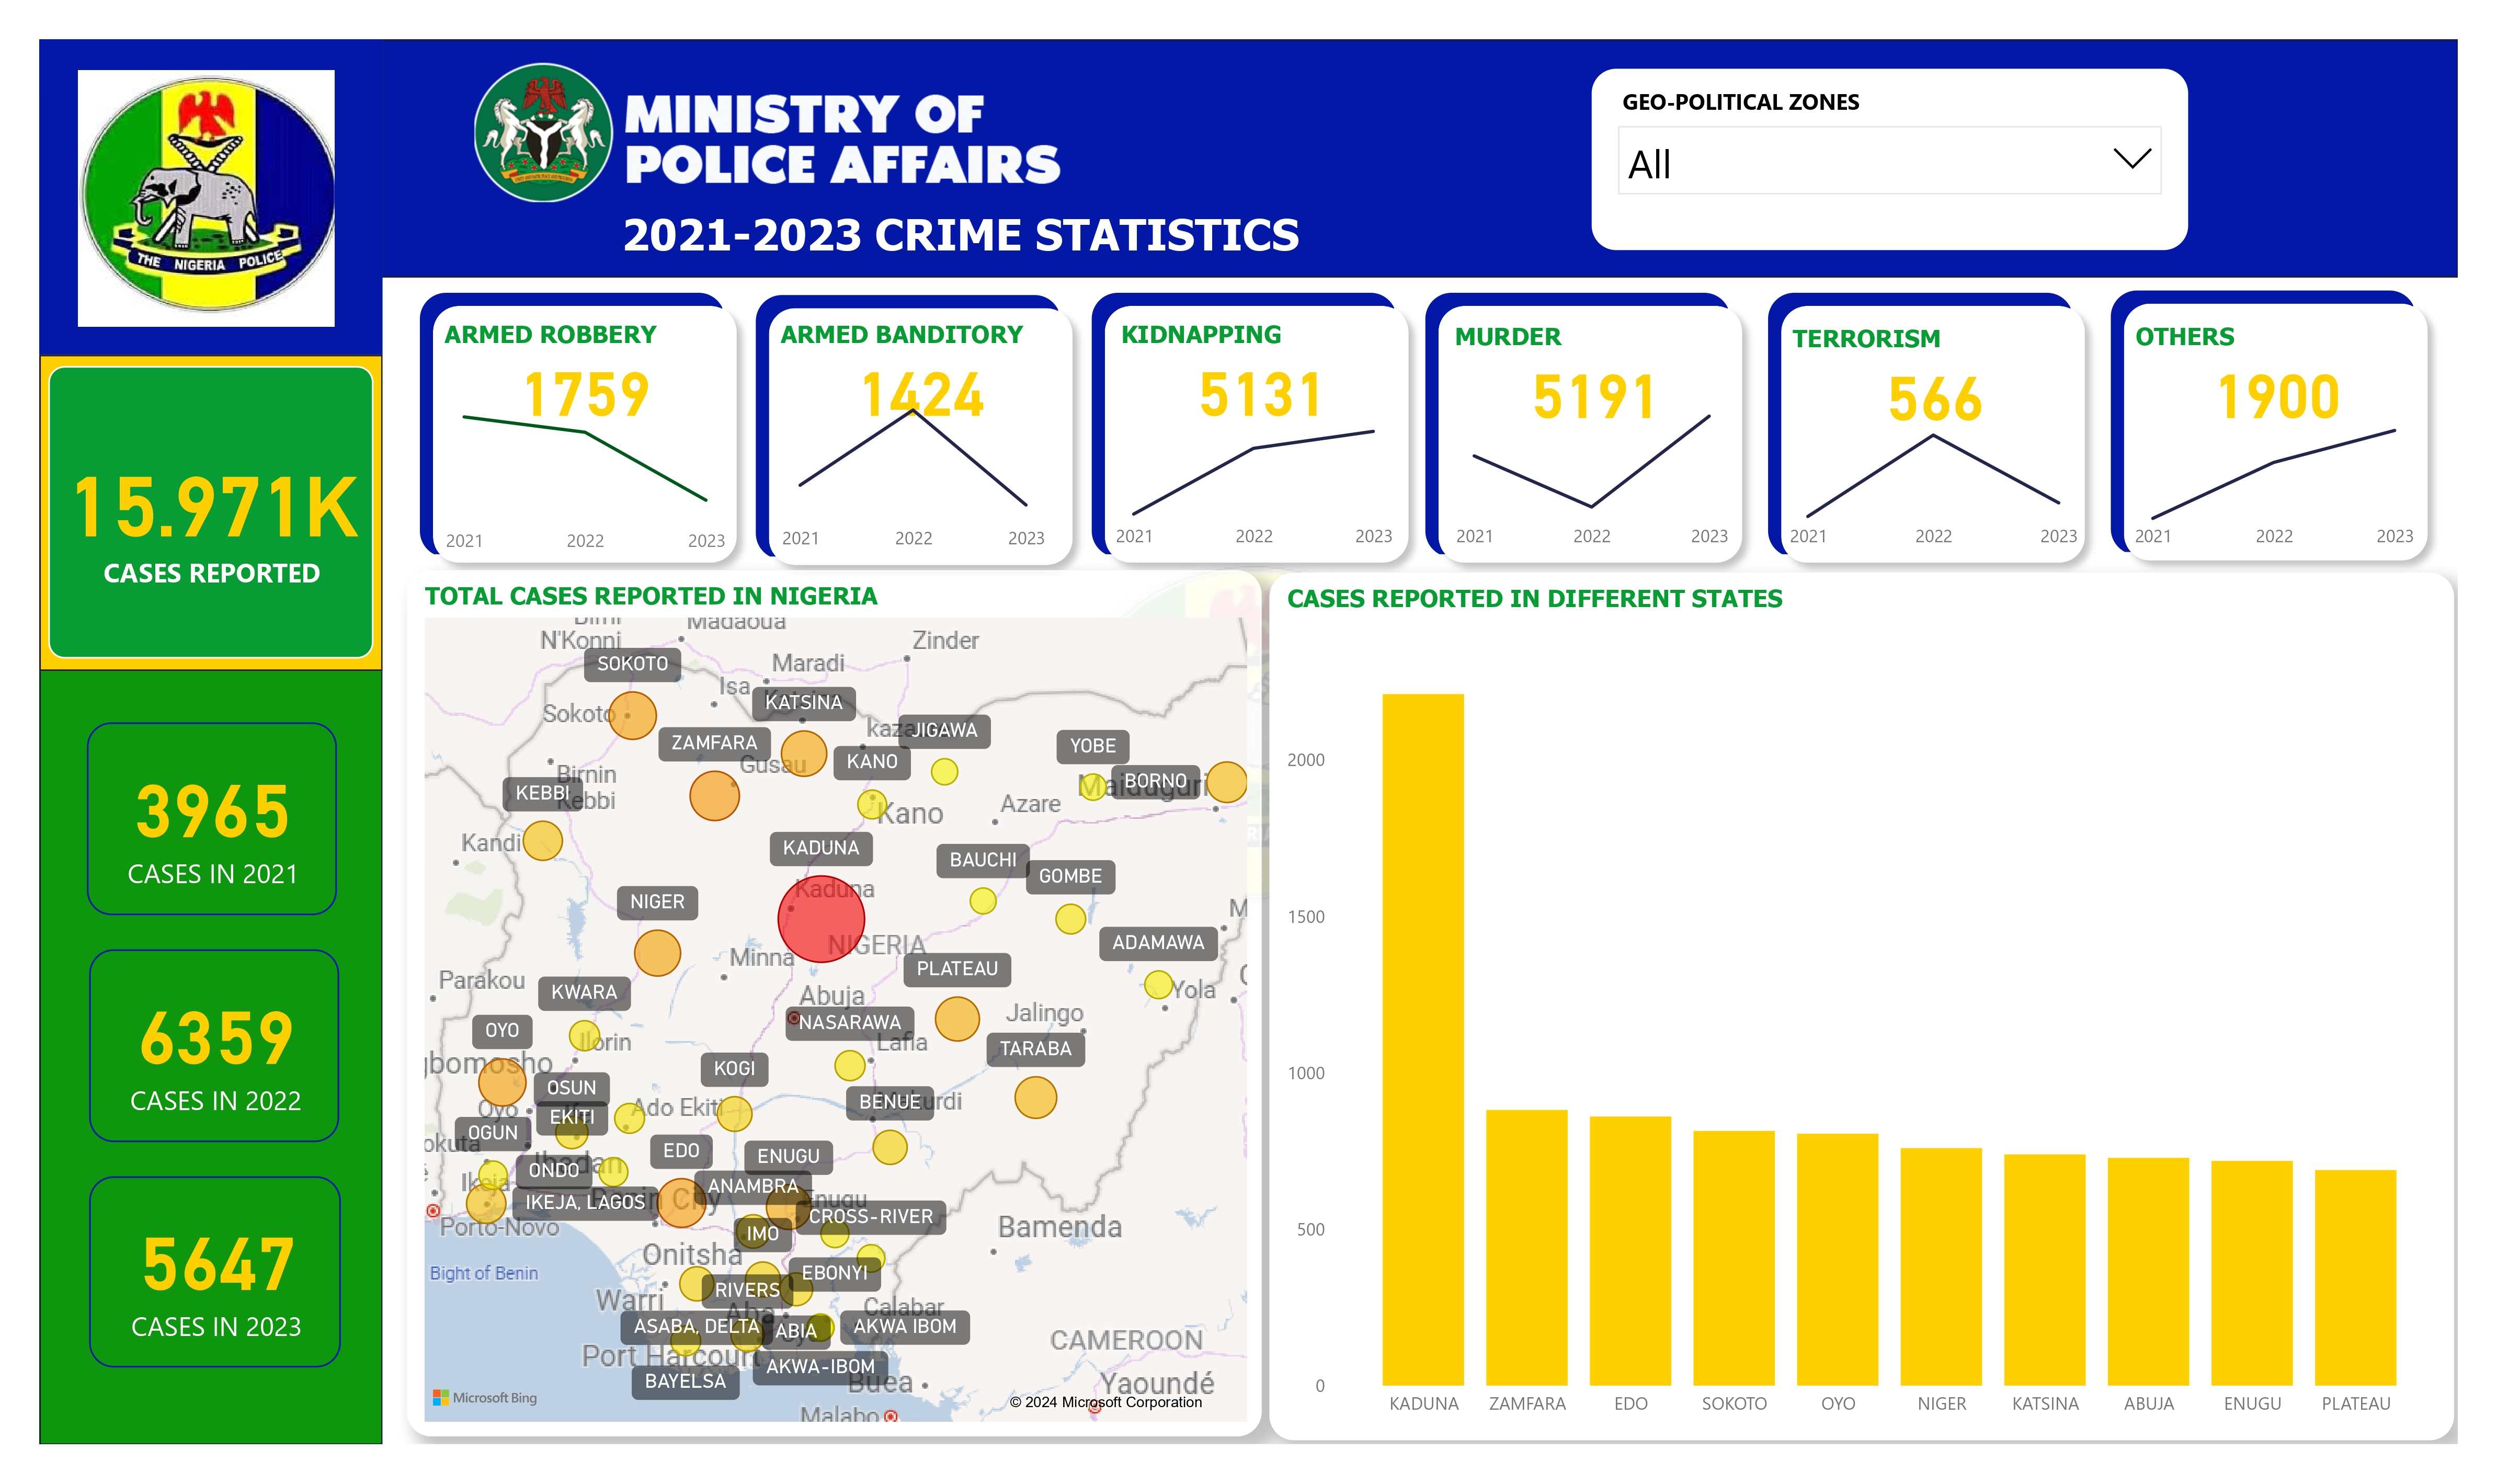

This screenshot's page, from the dashboard's own definition file:
{"tool":"powerbi","page":{"name":"OVERVIEW","canvas":[1480,860],"ordinal":0},"visuals":[{"type":"shape","box":[183.3,0,1297.2,145.8],"z":0},{"type":"shape","box":[1267.1,152.8,186.6,161.8],"z":0,"group":"g5"},{"type":"shape","box":[232.3,153.5,186.6,161.8],"z":0,"group":"g1"},{"type":"shape","box":[643.4,154.2,186.6,161.8],"z":0,"group":"g3"},{"type":"shape","box":[847.6,154.2,186.6,161.8],"z":0,"group":"g4"},{"type":"shape","box":[1056.4,154.4,186.6,161.8],"z":0,"group":"g6"},{"type":"shape","box":[437.8,155.5,186.6,161.8],"z":0,"group":"g2"},{"type":"shape","box":[1267.1,152.8,203.8,175.2],"z":1000,"group":"g5"},{"type":"group","id":"g1","title":"Group 1","box":[232.3,153.5,203.8,175.2],"z":1000},{"type":"shape","box":[232.3,153.5,203.8,175.2],"z":1000,"group":"g1"},{"type":"shape","box":[643.4,154.2,203.8,175.2],"z":1000,"group":"g3"},{"type":"shape","box":[847.6,154.2,203.8,175.2],"z":1000,"group":"g4"},{"type":"shape","box":[1056.4,154.4,203.8,175.2],"z":1000,"group":"g6"},{"type":"shape","box":[437.8,155.5,203.8,175.2],"z":1000,"group":"g2"},{"type":"group","id":"g2","title":"Group 1","box":[437.8,155.5,203.8,175.2],"z":2000},{"type":"group","id":"g3","title":"Group 1","box":[643.4,154.2,203.8,175.2],"z":3000},{"type":"group","id":"g4","title":"Group 1","box":[847.6,154.2,203.8,175.2],"z":4000},{"type":"group","id":"g5","title":"Group 1","box":[1267.1,152.8,204.2,175],"z":5000},{"type":"group","id":"g6","title":"Group 1","box":[1056.4,154.4,204.2,176.4],"z":6000},{"type":"slicer","fields":{"Values":["Crime-Statistics-Summary-Ministry-of-Police-Affairs FOR 3 YEARS.GEO-POLITICAL ZONES","Crime-Statistics-Summary-Ministry-of-Police-Affairs FOR 3 YEARS.STATE"]},"box":[950,18.1,365.3,111.1],"z":7000},{"type":"shape","box":[0,0,210.3,860.3],"z":8000},{"type":"shape","box":[0,0,210.3,193.6],"z":9000},{"type":"map","title":"TOTAL CASES REPORTED IN NIGERIA","fields":{"Category":["Crime-Statistics-Summary-Ministry-of-Police-Affairs FOR 3 YEARS.STATE"],"Size":["Sum(Crime-Statistics-Summary-Ministry-of-Police-Affairs FOR 3 YEARS.TOTAL CASES REPORTED)"]},"box":[224.8,325.5,522.9,529.9],"z":10000},{"type":"card","fields":{"Values":["Sum(Crime-Statistics-Summary-Ministry-of-Police-Affairs FOR 3 YEARS.TOTAL CASES REPORTED)"]},"box":[29.2,418.1,152.8,118.1],"z":11000},{"type":"card","fields":{"Values":["Sum(Crime-Statistics-Summary-Ministry-of-Police-Affairs FOR 3 YEARS.TOTAL CASES REPORTED)"]},"box":[30.8,556.6,153.3,117.8],"z":12000},{"type":"card","fields":{"Values":["Sum(Crime-Statistics-Summary-Ministry-of-Police-Affairs FOR 3 YEARS.TOTAL CASES REPORTED)"]},"box":[30.6,695.8,154.2,116.7],"z":13000},{"type":"shape","box":[3.4,872.4,210.3,206.9],"z":14000},{"type":"shape","box":[0,193.6,210.3,193.6],"z":15000},{"type":"card","title":"ARMED ROBBERY","fields":{"Values":["Sum(Crime-Statistics-Summary-Ministry-of-Police-Affairs FOR 3 YEARS.ARMED ROBBERYCASES (JAN-DEC))"]},"box":[243.1,170.8,181.9,68.1],"z":16000},{"type":"lineChart","fields":{"Y":["Sum(Crime-Statistics-Summary-Ministry-of-Police-Affairs FOR 3 YEARS.ARMED ROBBERYCASES (JAN-DEC))"],"Category":["Crime-Statistics-Summary-Ministry-of-Police-Affairs FOR 3 YEARS.YEAR"]},"box":[243.1,212.5,181.9,112.5],"z":17000},{"type":"card","title":"ARMED BANDITORY","fields":{"Values":["Sum(Crime-Statistics-Summary-Ministry-of-Police-Affairs FOR 3 YEARS.ARMEDBANDITRY OCCCURRENCE (JAN-DEC))"]},"box":[448.6,170.8,181.9,68.1],"z":18000},{"type":"card","title":"KIDNAPPING","fields":{"Values":["Sum(Crime-Statistics-Summary-Ministry-of-Police-Affairs FOR 3 YEARS.KIDNAPPINGCASES (JAN-DEC))"]},"box":[656.9,170.8,181.9,68.1],"z":19000},{"type":"card","title":"MURDER","fields":{"Values":["Sum(Crime-Statistics-Summary-Ministry-of-Police-Affairs FOR 3 YEARS.MURDERCASES (JAN-DEC))"]},"box":[861.1,172.2,181.9,68.1],"z":20000},{"type":"card","title":"TERRORISM","fields":{"Values":["Sum(Crime-Statistics-Summary-Ministry-of-Police-Affairs FOR 3 YEARS.TERRORRISM/SECESSIONISTSATTACK (JAN-DEC))"]},"box":[1068.1,173.6,183.3,68.1],"z":21000},{"type":"card","title":"OTHERS","fields":{"Values":["Sum(Crime-Statistics-Summary-Ministry-of-Police-Affairs FOR 3 YEARS.OTHERS (JAN-DEC))"]},"box":[1277.8,172.2,183.3,68.1],"z":22000},{"type":"lineChart","fields":{"Y":["Sum(Crime-Statistics-Summary-Ministry-of-Police-Affairs FOR 3 YEARS.ARMEDBANDITRY OCCCURRENCE (JAN-DEC))"],"Category":["Crime-Statistics-Summary-Ministry-of-Police-Affairs FOR 3 YEARS.YEAR"]},"box":[448.6,211.1,172.2,112.5],"z":23000},{"type":"lineChart","fields":{"Y":["Sum(Crime-Statistics-Summary-Ministry-of-Police-Affairs FOR 3 YEARS.KIDNAPPINGCASES (JAN-DEC))"],"Category":["Crime-Statistics-Summary-Ministry-of-Police-Affairs FOR 3 YEARS.YEAR"]},"box":[652.8,209.7,180.6,112.5],"z":24000},{"type":"lineChart","fields":{"Y":["Sum(Crime-Statistics-Summary-Ministry-of-Police-Affairs FOR 3 YEARS.MURDERCASES (JAN-DEC))"],"Category":["Crime-Statistics-Summary-Ministry-of-Police-Affairs FOR 3 YEARS.YEAR"]},"box":[861.1,209.7,177.8,112.5],"z":25000},{"type":"lineChart","fields":{"Y":["Sum(Crime-Statistics-Summary-Ministry-of-Police-Affairs FOR 3 YEARS.TERRORRISM/SECESSIONISTSATTACK (JAN-DEC))"],"Category":["Crime-Statistics-Summary-Ministry-of-Police-Affairs FOR 3 YEARS.YEAR"]},"box":[1065.3,209.7,187.5,112.5],"z":26000},{"type":"lineChart","fields":{"Y":["Sum(Crime-Statistics-Summary-Ministry-of-Police-Affairs FOR 3 YEARS.OTHERS (JAN-DEC))"],"Category":["Crime-Statistics-Summary-Ministry-of-Police-Affairs FOR 3 YEARS.YEAR"]},"box":[1276.4,209.7,181.9,112.5],"z":27000},{"type":"image","box":[176.4,0,540.3,109.7],"z":28000},{"type":"textbox","box":[351.4,97.2,465.3,48.6],"z":29000},{"type":"image","box":[2.8,13.9,198.6,166.7],"z":30000},{"type":"card","fields":{"Values":["Sum(Crime-Statistics-Summary-Ministry-of-Police-Affairs FOR 3 YEARS.TOTAL CASES REPORTED)"]},"box":[5.6,200,198.6,179.2],"z":31000},{"type":"clusteredColumnChart","title":"CASES REPORTED IN DIFFERENT STATES","fields":{"Category":["Crime-Statistics-Summary-Ministry-of-Police-Affairs FOR 3 YEARS.STATE"],"Y":["Sum(Crime-Statistics-Summary-Ministry-of-Police-Affairs FOR 3 YEARS.TOTAL CASES REPORTED)"]},"box":[752.8,326.4,725,530.6],"z":32000}]}

Visuals, with their boxes in screenshot pixels (x1, y1, x2, y2):
shape: 331, 32, 2489, 275
shape: 2134, 287, 2445, 556
shape: 413, 288, 723, 557
shape: 1097, 289, 1407, 558
shape: 1436, 289, 1747, 558
shape: 1784, 289, 2094, 558
shape: 755, 291, 1065, 561
shape: 2134, 287, 2473, 578
"Group 1" group: 413, 288, 751, 579
shape: 413, 288, 751, 579
shape: 1097, 289, 1435, 580
shape: 1436, 289, 1775, 580
shape: 1784, 289, 2123, 581
shape: 755, 291, 1093, 583
"Group 1" group: 755, 291, 1093, 583
"Group 1" group: 1097, 289, 1435, 580
"Group 1" group: 1436, 289, 1775, 580
"Group 1" group: 2134, 287, 2474, 578
"Group 1" group: 1784, 289, 2124, 583
slicer - Crime-Statistics-Summary-Ministry-of-Police-Affairs FOR 3 YEARS.GEO-POLITICAL ZONES x Crime-Statistics-Summary-Ministry-of-Police-Affairs FOR 3 YEARS.STATE: 1606, 63, 2215, 247
shape: 26, 32, 376, 1464
shape: 26, 32, 376, 355
"TOTAL CASES REPORTED IN NIGERIA" map: 400, 574, 1270, 1456
card - Sum(Crime-Statistics-Summary-Ministry-of-Police-Affairs FOR 3 YEARS.TOTAL CASES REPORTED): 75, 728, 329, 924
card - Sum(Crime-Statistics-Summary-Ministry-of-Police-Affairs FOR 3 YEARS.TOTAL CASES REPORTED): 77, 958, 333, 1155
card - Sum(Crime-Statistics-Summary-Ministry-of-Police-Affairs FOR 3 YEARS.TOTAL CASES REPORTED): 77, 1190, 334, 1384
shape: 26, 355, 376, 677
"ARMED ROBBERY" card: 430, 317, 733, 430
lineChart - Sum(Crime-Statistics-Summary-Ministry-of-Police-Affairs FOR 3 YEARS.ARMED ROBBERYCASES (JAN-DEC)) x Crime-Statistics-Summary-Ministry-of-Police-Affairs FOR 3 YEARS.YEAR: 430, 386, 733, 573
"ARMED BANDITORY" card: 772, 317, 1075, 430
"KIDNAPPING" card: 1119, 317, 1422, 430
"MURDER" card: 1459, 319, 1761, 432
"TERRORISM" card: 1803, 322, 2108, 435
"OTHERS" card: 2152, 319, 2457, 432
lineChart - Sum(Crime-Statistics-Summary-Ministry-of-Police-Affairs FOR 3 YEARS.ARMEDBANDITRY OCCCURRENCE (JAN-DEC)) x Crime-Statistics-Summary-Ministry-of-Police-Affairs FOR 3 YEARS.YEAR: 772, 384, 1059, 571
lineChart - Sum(Crime-Statistics-Summary-Ministry-of-Police-Affairs FOR 3 YEARS.KIDNAPPINGCASES (JAN-DEC)) x Crime-Statistics-Summary-Ministry-of-Police-Affairs FOR 3 YEARS.YEAR: 1112, 381, 1412, 568
lineChart - Sum(Crime-Statistics-Summary-Ministry-of-Police-Affairs FOR 3 YEARS.MURDERCASES (JAN-DEC)) x Crime-Statistics-Summary-Ministry-of-Police-Affairs FOR 3 YEARS.YEAR: 1459, 381, 1754, 568
lineChart - Sum(Crime-Statistics-Summary-Ministry-of-Police-Affairs FOR 3 YEARS.TERRORRISM/SECESSIONISTSATTACK (JAN-DEC)) x Crime-Statistics-Summary-Ministry-of-Police-Affairs FOR 3 YEARS.YEAR: 1798, 381, 2111, 568
lineChart - Sum(Crime-Statistics-Summary-Ministry-of-Police-Affairs FOR 3 YEARS.OTHERS (JAN-DEC)) x Crime-Statistics-Summary-Ministry-of-Police-Affairs FOR 3 YEARS.YEAR: 2150, 381, 2453, 568
image: 320, 32, 1218, 215
textbox: 611, 194, 1385, 275
image: 31, 55, 361, 333
card - Sum(Crime-Statistics-Summary-Ministry-of-Police-Affairs FOR 3 YEARS.TOTAL CASES REPORTED): 36, 366, 366, 664
"CASES REPORTED IN DIFFERENT STATES" clusteredColumnChart: 1279, 576, 2485, 1458
